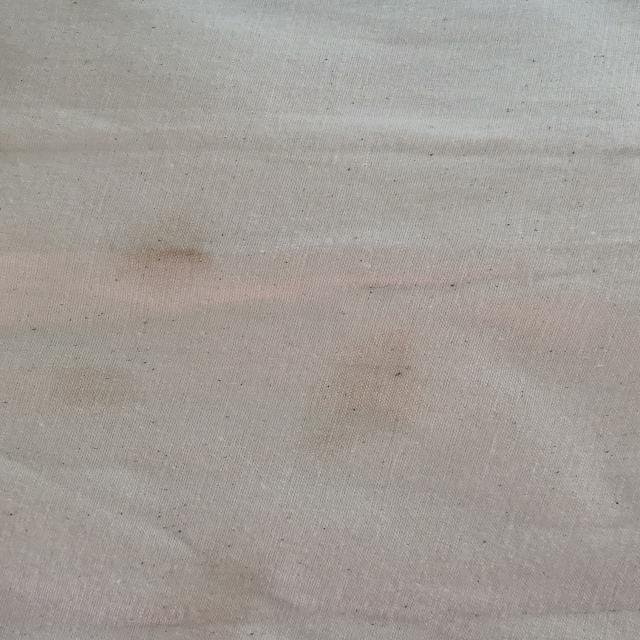taaaches: (281, 328, 451, 472), (28, 353, 149, 415), (108, 238, 244, 293)
